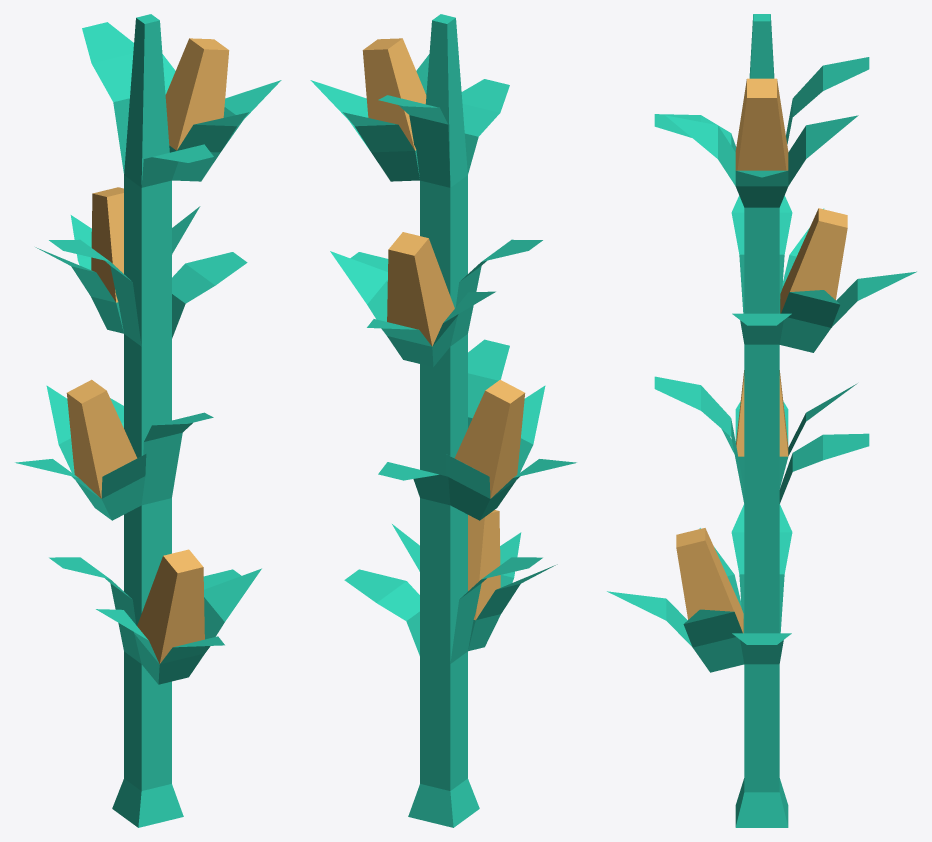
File: crops-corn-stage-d.glb
3 views of the same model, side by side, from view 1: azimuth 30°, elevation 25°; view 2: azimuth 150°, elevation 25°; view 3: azimuth 270°, elevation 25° (orthographic).
Parts seen in each view (by area): view 1: crops_cornStageD, corn (×4); view 2: crops_cornStageD, corn (×4); view 3: crops_cornStageD, corn (×4).
Boxes of the visible parts, x1,y1,x2,y2 form: crops_cornStageD: (49, 14, 247, 827); corn (×4): (15, 38, 281, 684); crops_cornStageD: (344, 14, 542, 827); corn (×4): (310, 38, 576, 651); crops_cornStageD: (654, 14, 869, 827); corn (×4): (607, 78, 916, 672).
Size of the model in its own units: 0.4416 by 1.25 by 0.4416.
